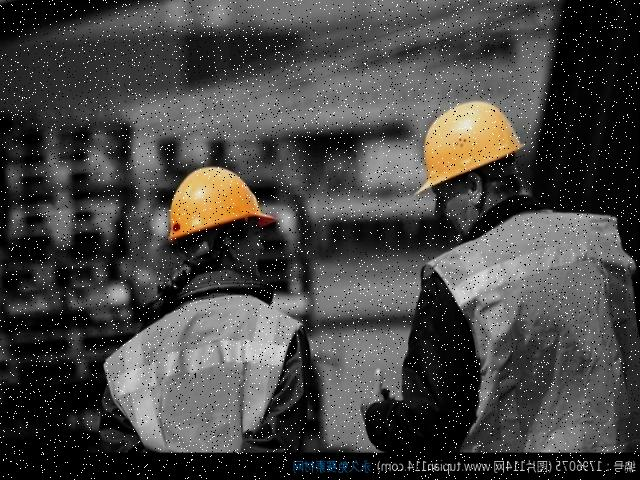Helmet: (408, 95, 530, 200), (162, 161, 284, 247)
